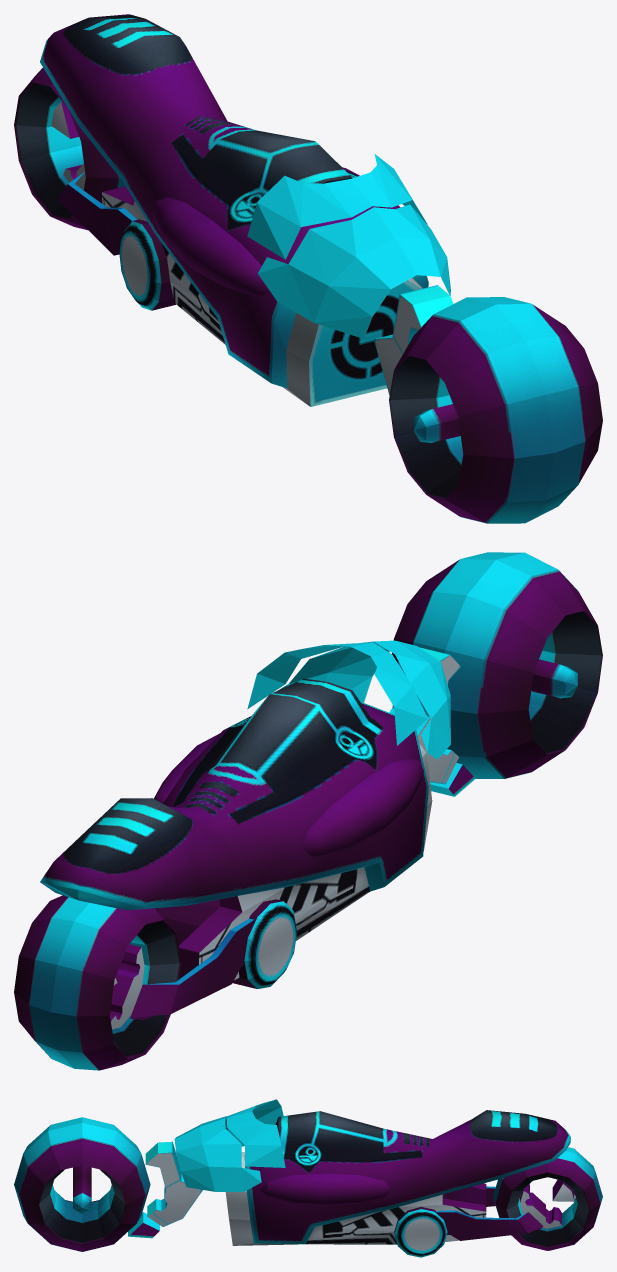
File: lightcycle.glb
3 renders of one model, top to bottom at view 1: azimuth 30°, elevation 25°; view 2: azimuth 150°, elevation 25°; view 3: azimuth 270°, elevation 25°, orthographic. The views are drawn at different scales.
Parts seen in each view (by area): view 1: rdmobj00; view 2: rdmobj00; view 3: rdmobj00.
Part boxes in pixels (left/top/right/bottom): rdmobj00: left=14, top=14, right=602, bottom=523; rdmobj00: left=14, top=552, right=602, bottom=1070; rdmobj00: left=14, top=1099, right=602, bottom=1257.
Size of the model in its own units: 86.05 by 93.92 by 371.
1 material, 1 textured.
